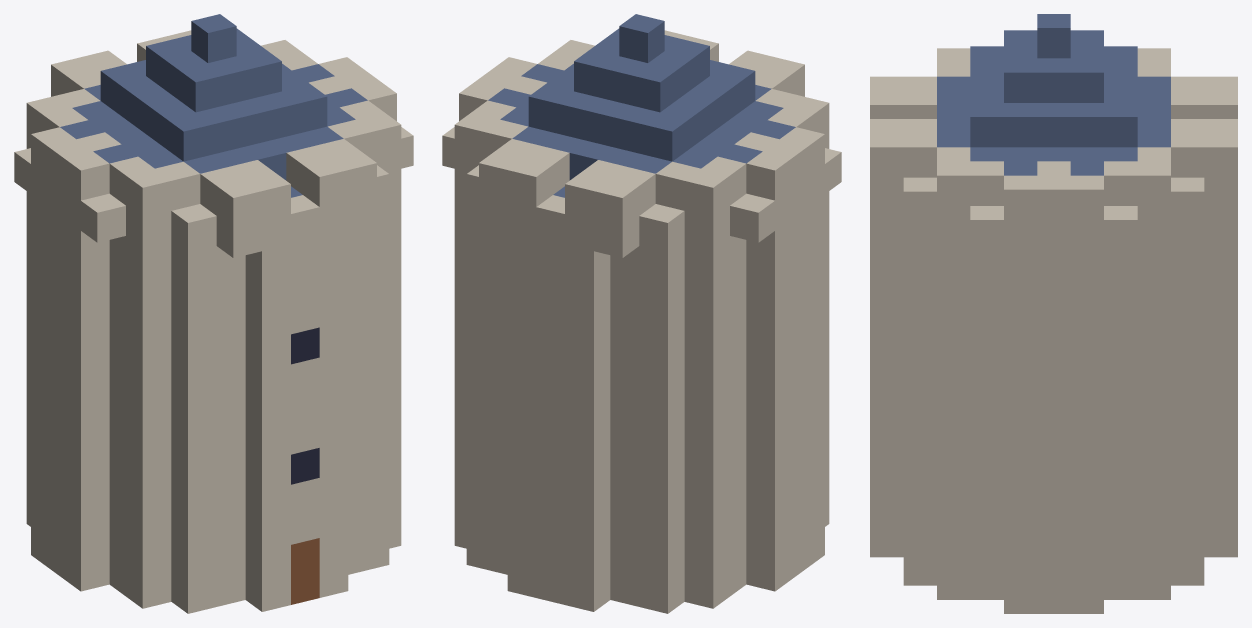
The model's file is round_tower.glb.
3 renders of one model, left to right at view 1: azimuth 30°, elevation 25°; view 2: azimuth 150°, elevation 25°; view 3: azimuth 270°, elevation 25°, orthographic.
Parts seen in each view (by area): view 1: round_tower_stone, round_tower_roof_slate, round_tower_black, round_tower_door; view 2: round_tower_stone, round_tower_roof_slate; view 3: round_tower_stone, round_tower_roof_slate.
Part boxes in pixels (left/top/right/bottom): round_tower_stone: left=14, top=30, right=413, bottom=613; round_tower_roof_slate: left=60, top=14, right=367, bottom=197; round_tower_black: left=291, top=327, right=319, bottom=484; round_tower_door: left=291, top=538, right=319, bottom=604; round_tower_stone: left=442, top=30, right=841, bottom=613; round_tower_roof_slate: left=488, top=14, right=795, bottom=197; round_tower_stone: left=870, top=48, right=1237, bottom=613; round_tower_roof_slate: left=937, top=14, right=1170, bottom=175.
Size of the model in its own units: 15.18 by 23.46 by 15.18.
